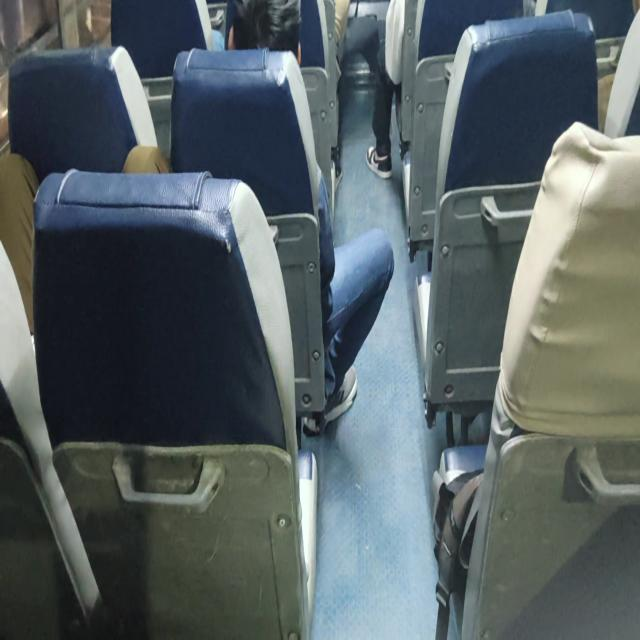person: (122, 1, 395, 437), (305, 161, 394, 434), (334, 0, 395, 180), (364, 0, 405, 179), (224, 0, 302, 65)
